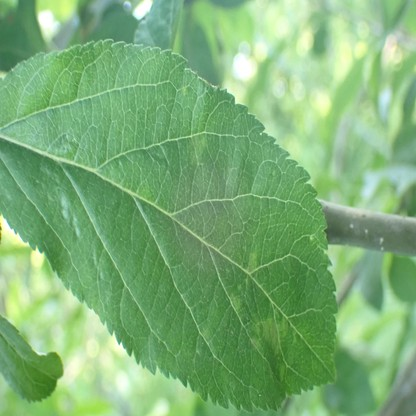scab: (252, 310, 285, 352), (230, 292, 241, 315), (248, 252, 256, 272), (279, 362, 285, 385)
